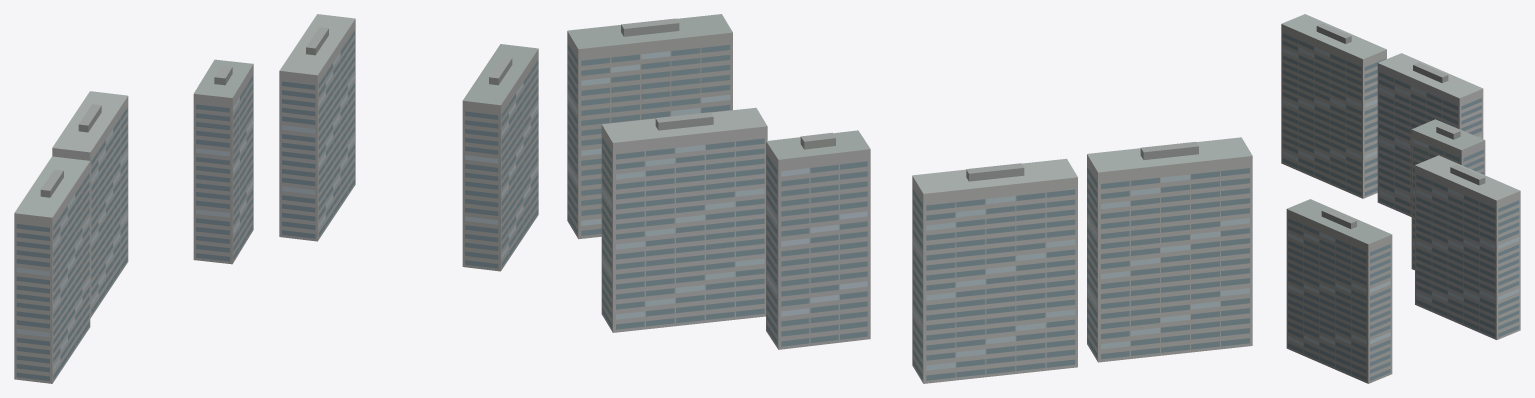
The model's file is apt-a14381512.glb.
The picture shows the model from 3 angles, left to right: view 1: azimuth 30°, elevation 25°; view 2: azimuth 150°, elevation 25°; view 3: azimuth 270°, elevation 25°; orthographic projection. The views are drawn at different scales.
Parts seen in each view (by area): view 1: apt-a14381512; view 2: apt-a14381512; view 3: apt-a14381512.
Part boxes in pixels (x1,y1,x2,y2): apt-a14381512: (14, 14, 538, 383); apt-a14381512: (567, 14, 1252, 383); apt-a14381512: (1281, 14, 1520, 383).
Bounding box in the file's own units: 205 × 60.35 × 90.08.
